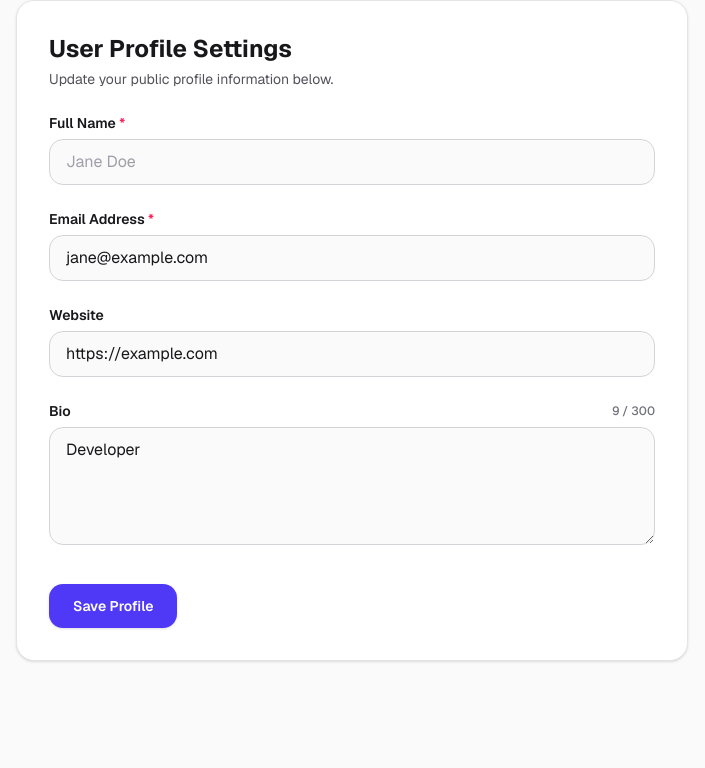
Test case: ProfileForm Component UI & Accessibility Tests › (1) submitting with an empty name shows the required error
Click the button "Save Profile": x=113, y=606 x1=49 y1=584 x2=178 y2=628
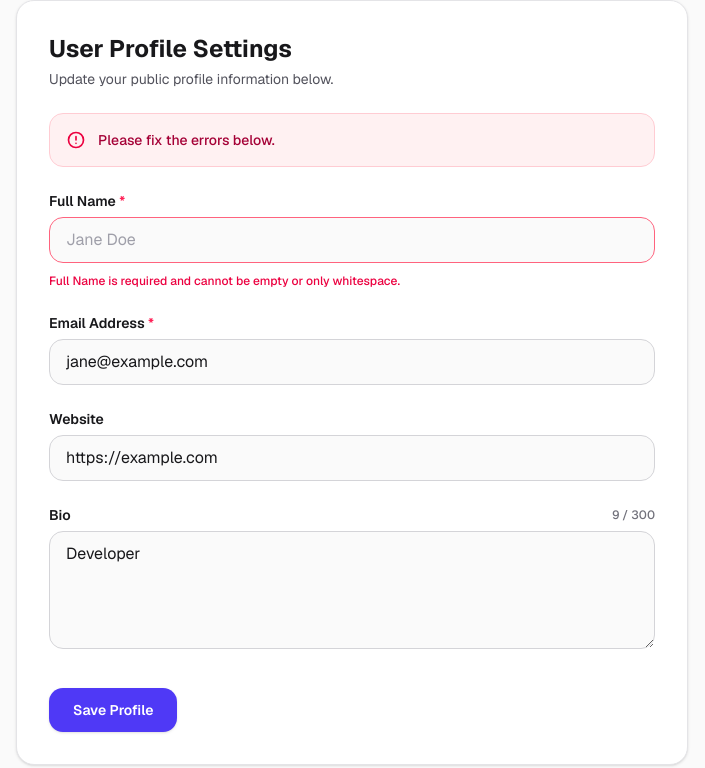
Check: the text "Full Name is required and cannot be empty or only whitespace." is shown, box x1=49 y1=273 x2=400 y2=289
